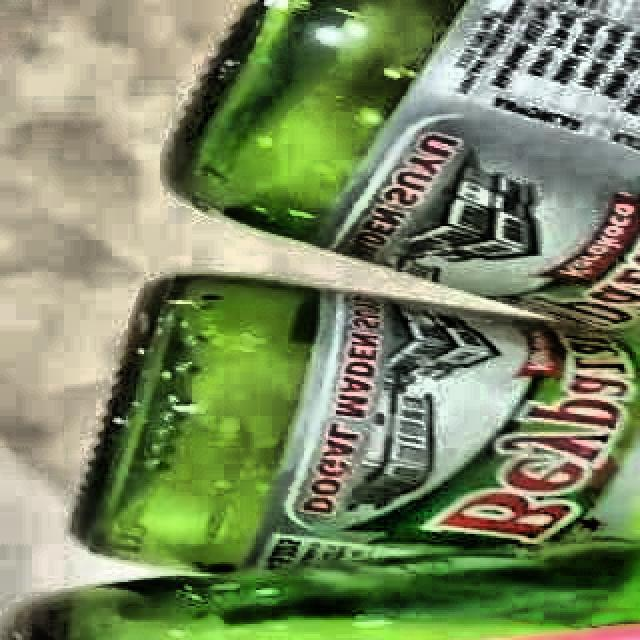glass: (3, 0, 640, 640)
